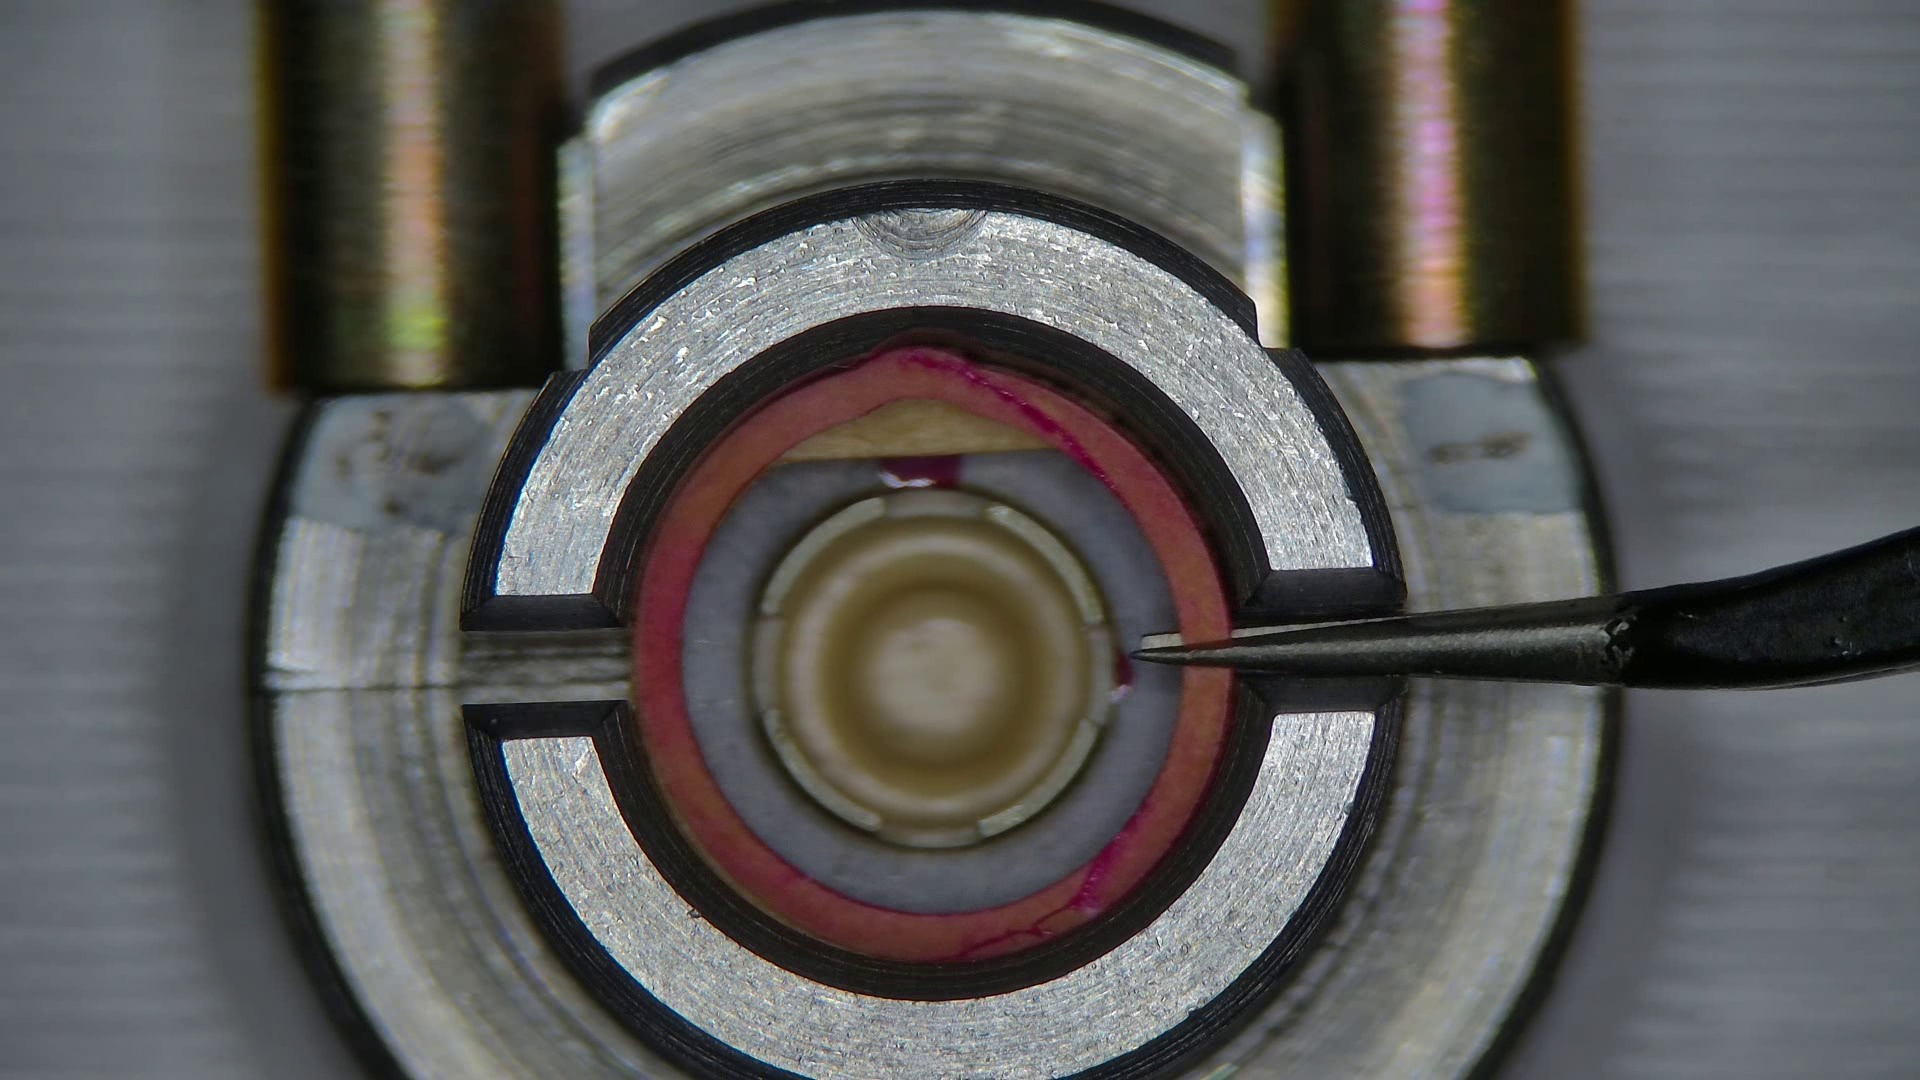GreyOring: (634, 345, 1233, 963)
YellowOring: (684, 452, 1178, 911)
redOring: (783, 400, 1048, 460)
